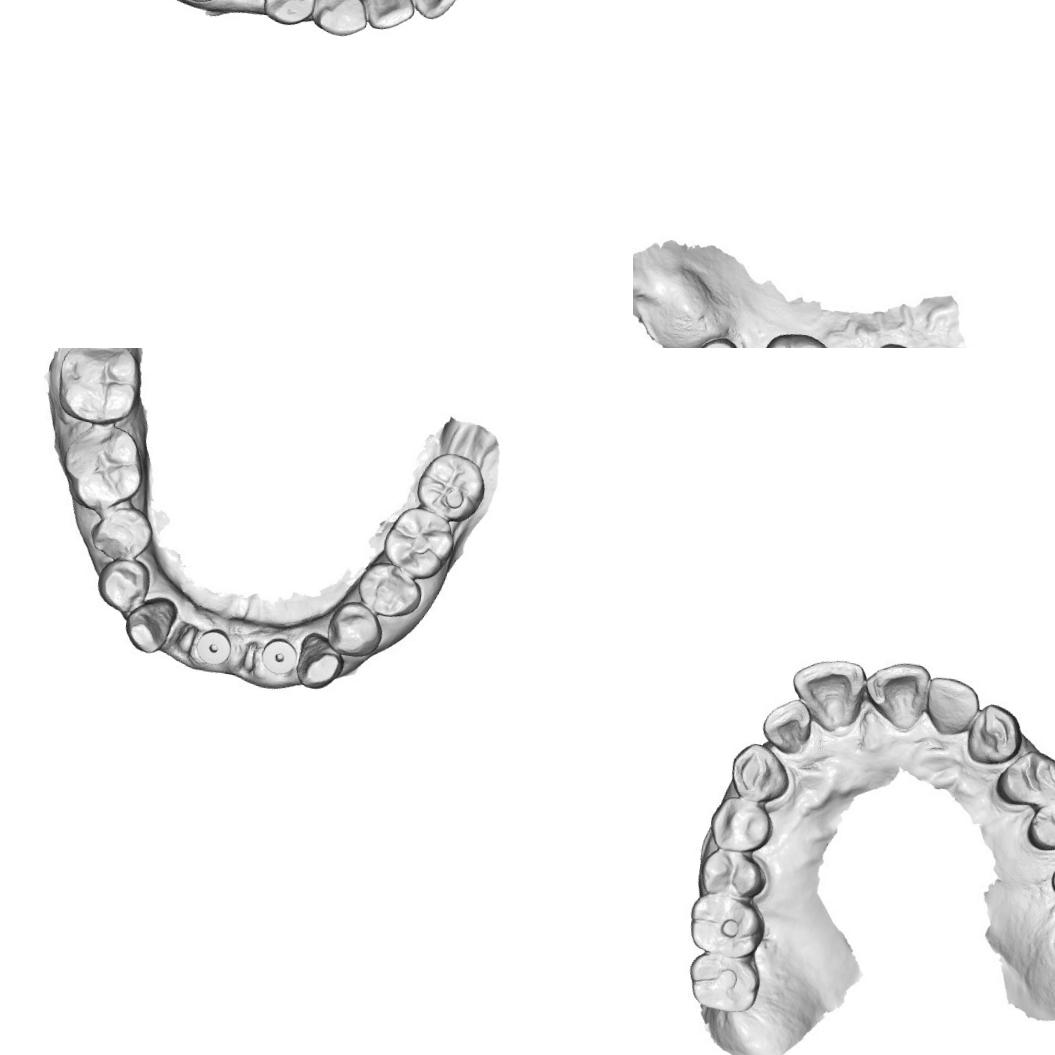canine: (726, 738, 791, 808), (962, 698, 1023, 766), (120, 594, 178, 657), (293, 630, 348, 693), (307, 0, 374, 40)
implant: (192, 626, 235, 668), (258, 635, 300, 677), (693, 330, 745, 348)
incisor: (784, 652, 868, 738), (856, 653, 934, 735), (922, 674, 980, 737), (758, 699, 818, 759), (360, 0, 419, 35), (389, 0, 468, 25)
molar: (55, 417, 150, 518), (50, 348, 147, 431), (378, 502, 460, 584), (412, 448, 490, 526), (684, 950, 762, 1020), (687, 893, 766, 961), (751, 326, 843, 348)
premolar: (86, 500, 158, 567), (354, 558, 426, 622), (989, 746, 1055, 813), (323, 596, 388, 662), (698, 846, 768, 906), (92, 554, 154, 617), (711, 796, 770, 854), (259, 0, 321, 29), (1029, 792, 1055, 848)
